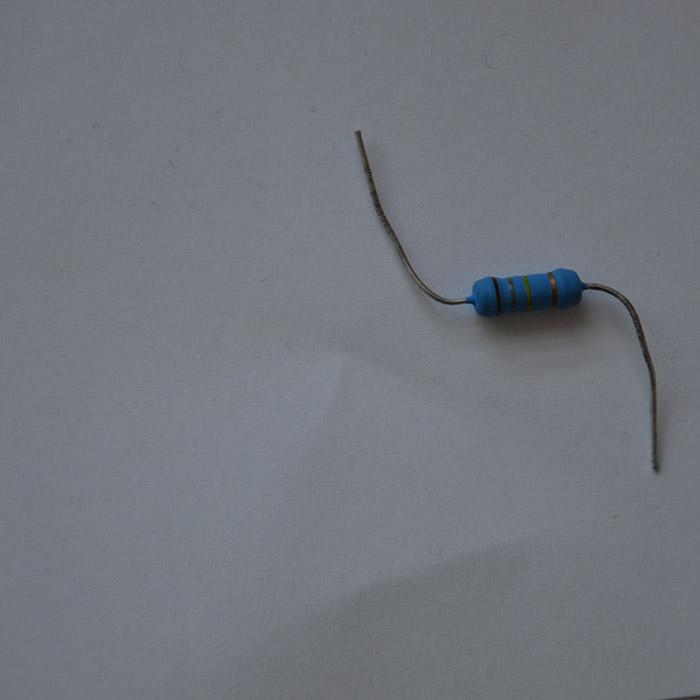resistor: (466, 267, 584, 318)
